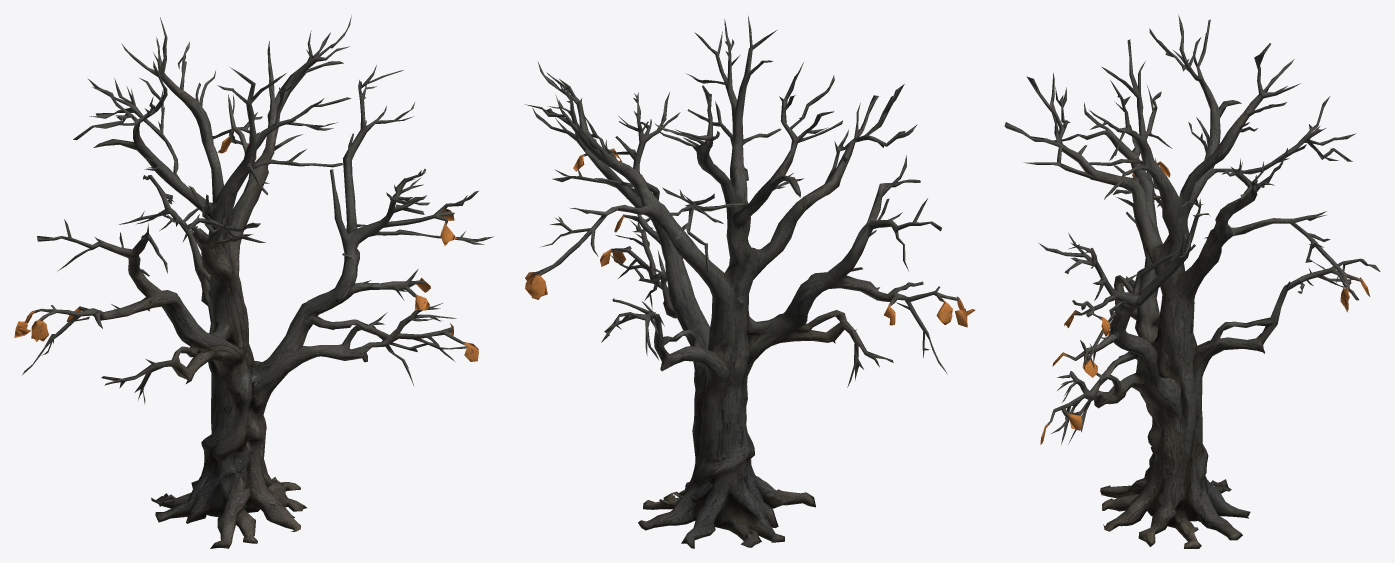
File: dead_tree.glb
3 views of the same model, side by side, from view 1: azimuth 30°, elevation 25°; view 2: azimuth 150°, elevation 25°; view 3: azimuth 270°, elevation 25° (orthographic). The views are drawn at different scales.
Parts seen in each view (by area): view 1: tripo_node_098b68f6-cc98-4578-8387-715920c1633a; view 2: tripo_node_098b68f6-cc98-4578-8387-715920c1633a; view 3: tripo_node_098b68f6-cc98-4578-8387-715920c1633a.
Boxes of the visible parts, box(x1,y1,x2,y2) form: tripo_node_098b68f6-cc98-4578-8387-715920c1633a: box(14, 15, 493, 548); tripo_node_098b68f6-cc98-4578-8387-715920c1633a: box(524, 16, 975, 548); tripo_node_098b68f6-cc98-4578-8387-715920c1633a: box(1004, 14, 1380, 548).
Bounding box in the file's own units: 0.9863 × 1 × 0.7297.
Materials: 1 (1 with a texture image).
